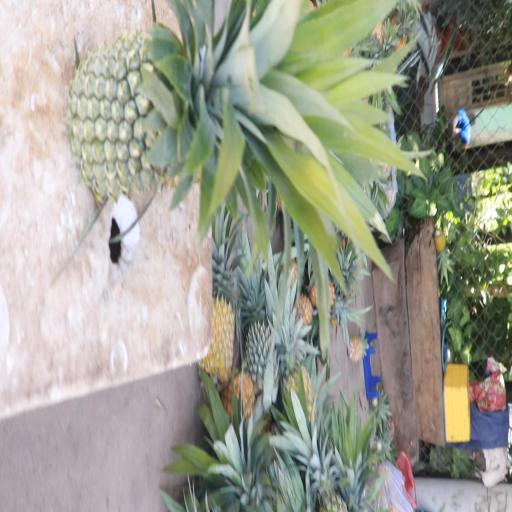------------------------------: (70, 32, 352, 196)
Pineapple - v8 v1: (201, 250, 241, 384), (273, 308, 318, 418)
